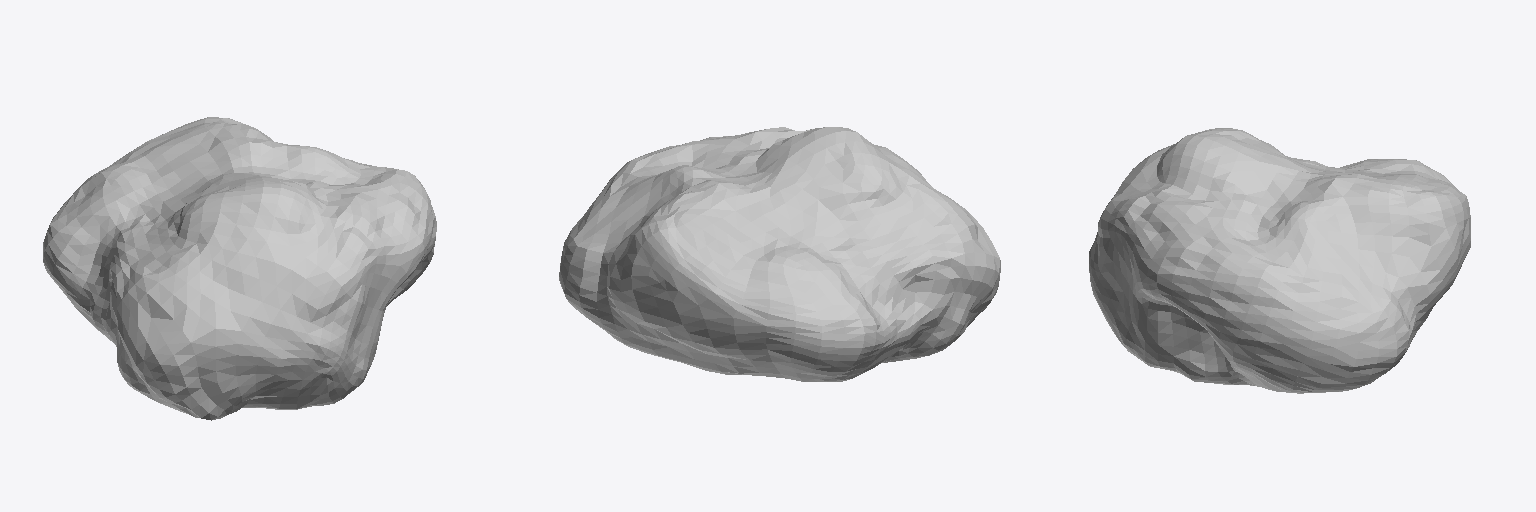
The model's file is rock5.obj.
3 views of the same model, side by side, from view 1: azimuth 30°, elevation 25°; view 2: azimuth 150°, elevation 25°; view 3: azimuth 270°, elevation 25° (orthographic).
Parts seen in each view (by area): view 1: rock5:Rock_05 rock5:group4 rock5:polySurface1; view 2: rock5:Rock_05 rock5:group4 rock5:polySurface1; view 3: rock5:Rock_05 rock5:group4 rock5:polySurface1.
Part boxes in pixels (x1,y1,x2,y2): rock5:Rock_05 rock5:group4 rock5:polySurface1: (43,117,436,420); rock5:Rock_05 rock5:group4 rock5:polySurface1: (559,127,1000,381); rock5:Rock_05 rock5:group4 rock5:polySurface1: (1089,128,1470,393).
Bounding box in the file's own units: 0.3688 × 0.2106 × 0.3523.